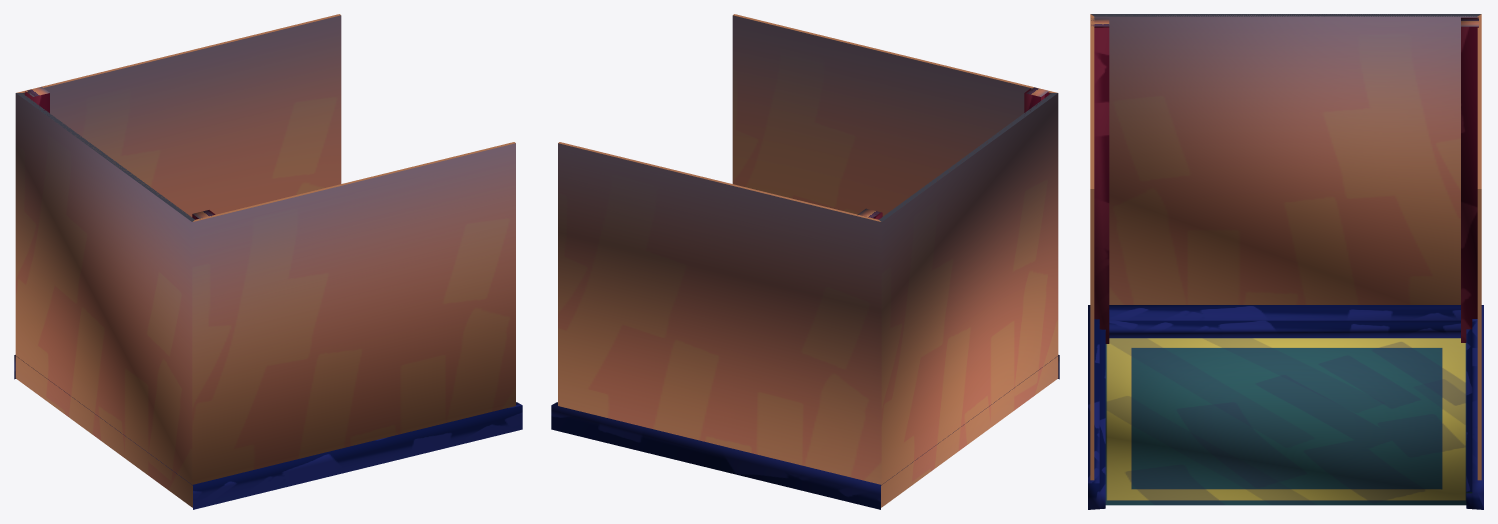
File: Elevador.fbx
The picture shows the model from 3 angles, left to right: view 1: azimuth 30°, elevation 25°; view 2: azimuth 150°, elevation 25°; view 3: azimuth 270°, elevation 25°; orthographic projection. The views are drawn at different scales.
Parts seen in each view (by area): view 1: Elevador; view 2: Elevador; view 3: Elevador.
Part boxes in pixels (box(x1,y1,x2,y2)): Elevador: box(14, 14, 522, 509); Elevador: box(551, 14, 1059, 509); Elevador: box(1088, 14, 1483, 509).
Size of the model in its own units: 449 by 421 by 374.
